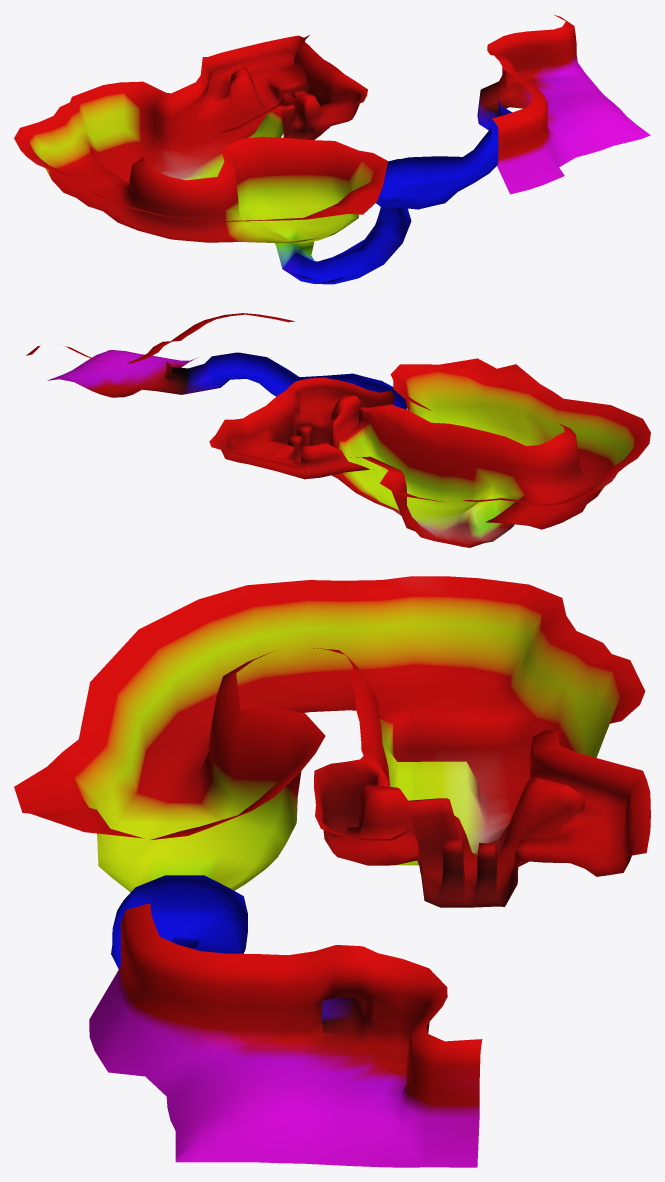
Rendered from TutorialLevelNew.glb.
3 renders of one model, top to bottom at view 1: azimuth 30°, elevation 25°; view 2: azimuth 150°, elevation 25°; view 3: azimuth 270°, elevation 25°, orthographic. The views are drawn at different scales.
Visible parts, largest first — view 1: Plane, Plane.001; view 2: Plane, Plane.001; view 3: Plane, Plane.001.
Boxes of the visible parts, bbox=[...] form: Plane: bbox=[14, 35, 511, 284]; Plane.001: bbox=[487, 15, 650, 194]; Plane: bbox=[156, 352, 650, 547]; Plane.001: bbox=[26, 313, 294, 397]; Plane: bbox=[14, 576, 650, 1034]; Plane.001: bbox=[89, 903, 482, 1167].
Bounding box in the file's own units: 96.47 × 24.69 × 53.08.
